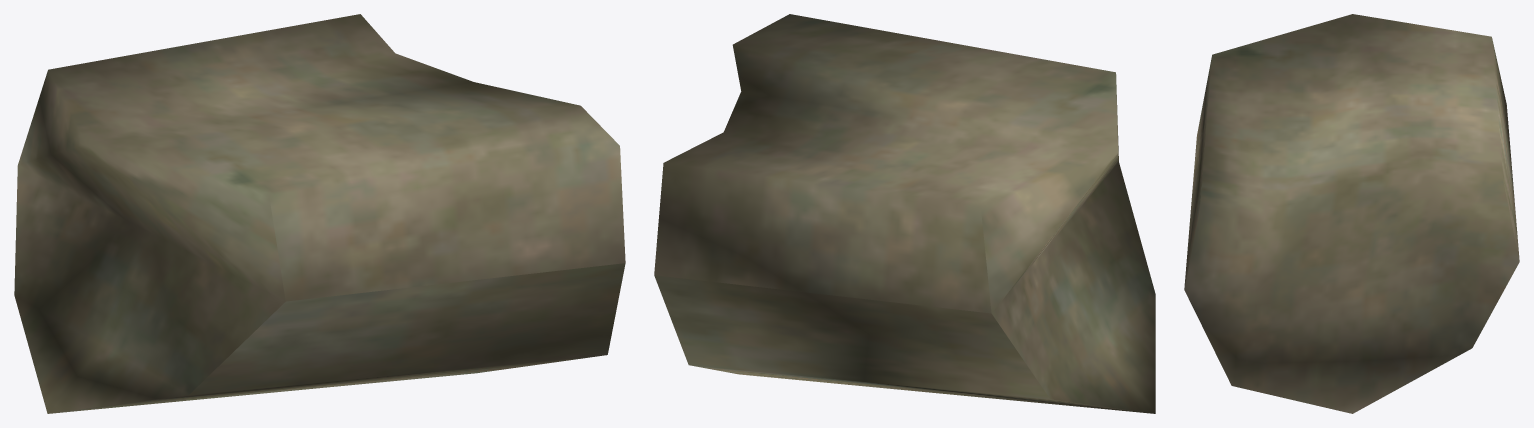
The model's file is ANIMATEDINSTANCES_CAVE_BRIDGE_203__AI.fbx.
3 views of the same model, side by side, from view 1: azimuth 30°, elevation 25°; view 2: azimuth 150°, elevation 25°; view 3: azimuth 270°, elevation 25° (orthographic). The views are drawn at different scales.
Visible parts, largest first — view 1: ANIMATEDINSTANCES_CAVE_BRIDGE_203__AI; view 2: ANIMATEDINSTANCES_CAVE_BRIDGE_203__AI; view 3: ANIMATEDINSTANCES_CAVE_BRIDGE_203__AI.
Boxes of the visible parts, x1=… form: ANIMATEDINSTANCES_CAVE_BRIDGE_203__AI: x1=14, y1=14, x2=625, y2=413; ANIMATEDINSTANCES_CAVE_BRIDGE_203__AI: x1=654, y1=14, x2=1155, y2=413; ANIMATEDINSTANCES_CAVE_BRIDGE_203__AI: x1=1184, y1=14, x2=1519, y2=413.
Size of the model in its own units: 11107 by 7116 by 8579.
Materials: 1 (1 with a texture image).
